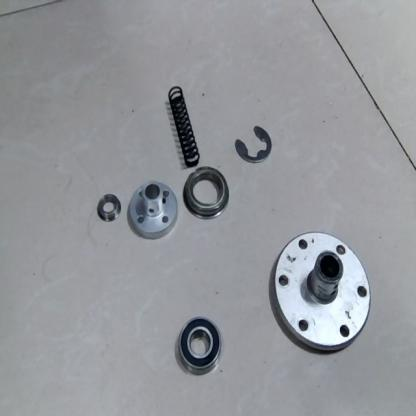FOD: (267, 230, 373, 352), (163, 81, 202, 169), (126, 179, 180, 240), (174, 318, 226, 375), (182, 164, 230, 220), (233, 123, 276, 164), (94, 192, 121, 225)
